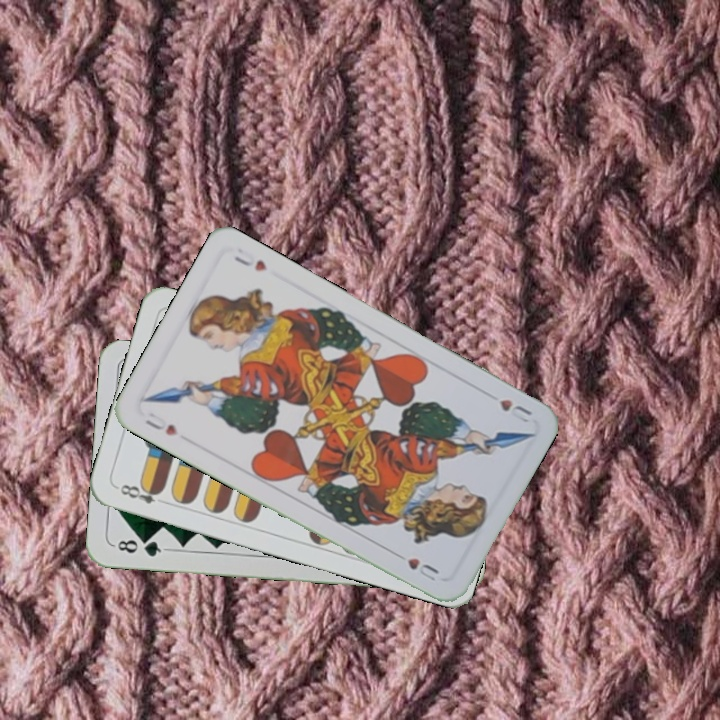E8: (113, 480, 170, 507)
G8: (110, 534, 169, 560)
HU: (496, 394, 535, 426), (141, 408, 181, 439)
